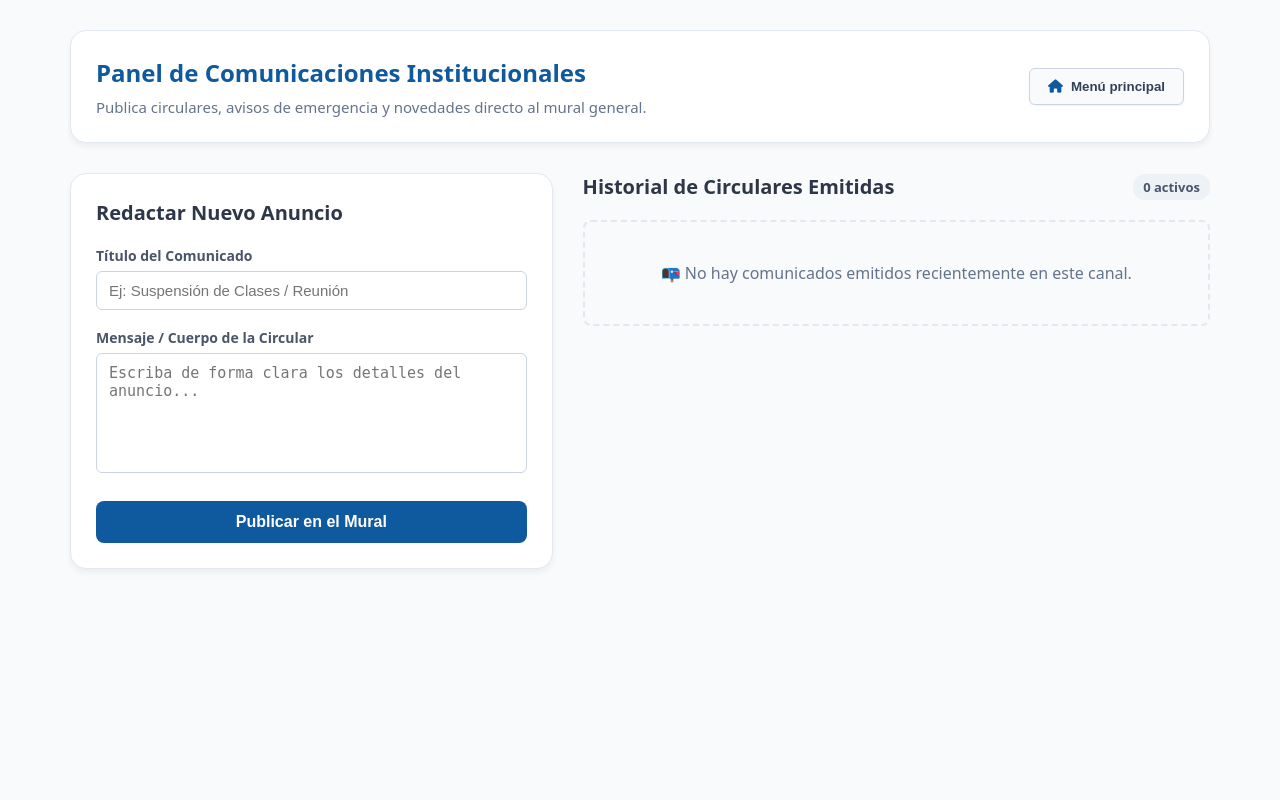
Test: Componente de Gestión de Comunicaciones › debe impedir el envío del formulario si hay campos vacíos
Click the button "Publicar en el Mural" at (311, 522), box [96,501,527,543]
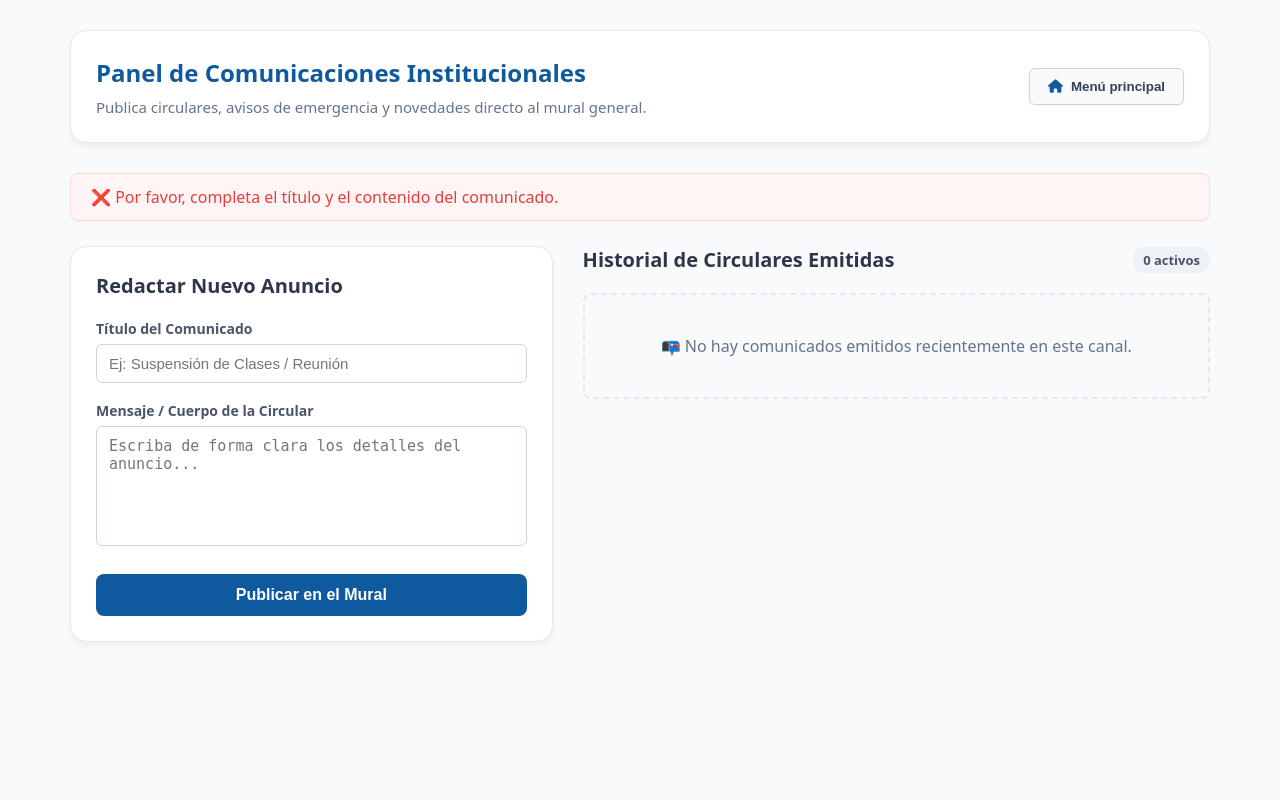
Expected: the text "Por favor, completa el título y el contenido del comunicado" is shown, [115,186,558,208]
